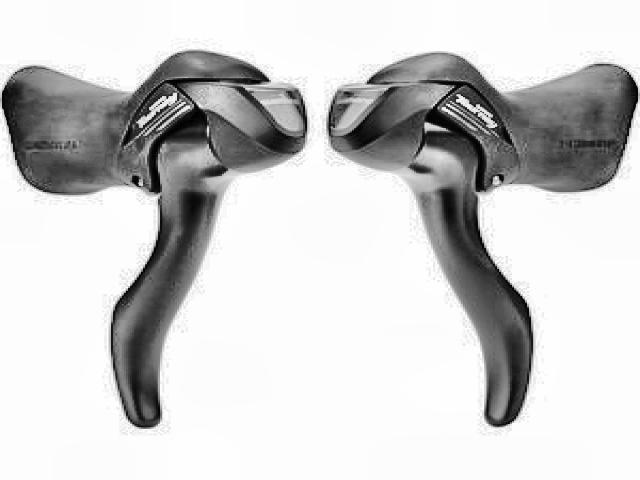sti_shifter: (3, 48, 310, 432), (326, 47, 627, 428)
